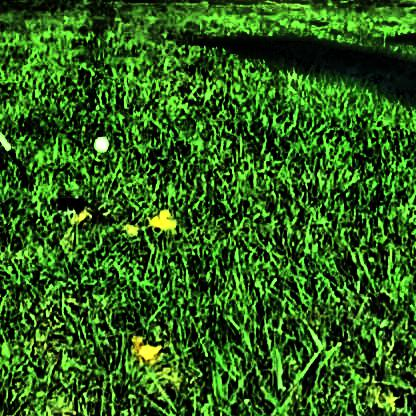golfball: (90, 133, 107, 150)
